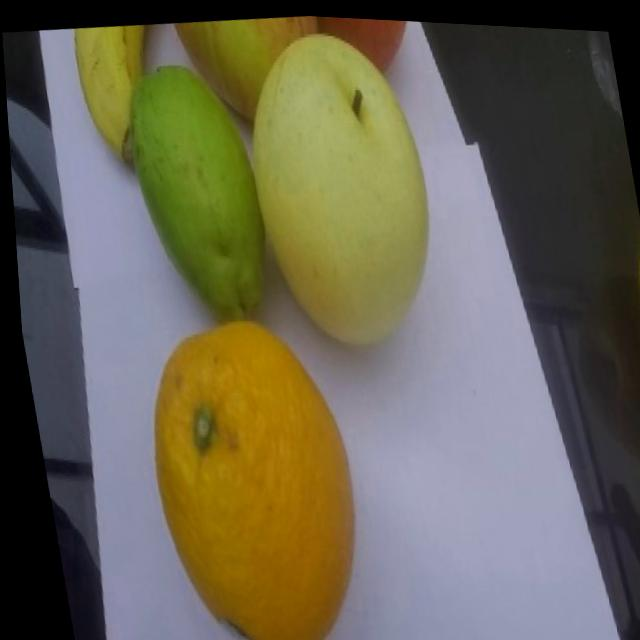Apple: (170, 7, 333, 128), (310, 13, 421, 99)
Banana: (65, 20, 170, 173)
Orange: (125, 302, 373, 640)
